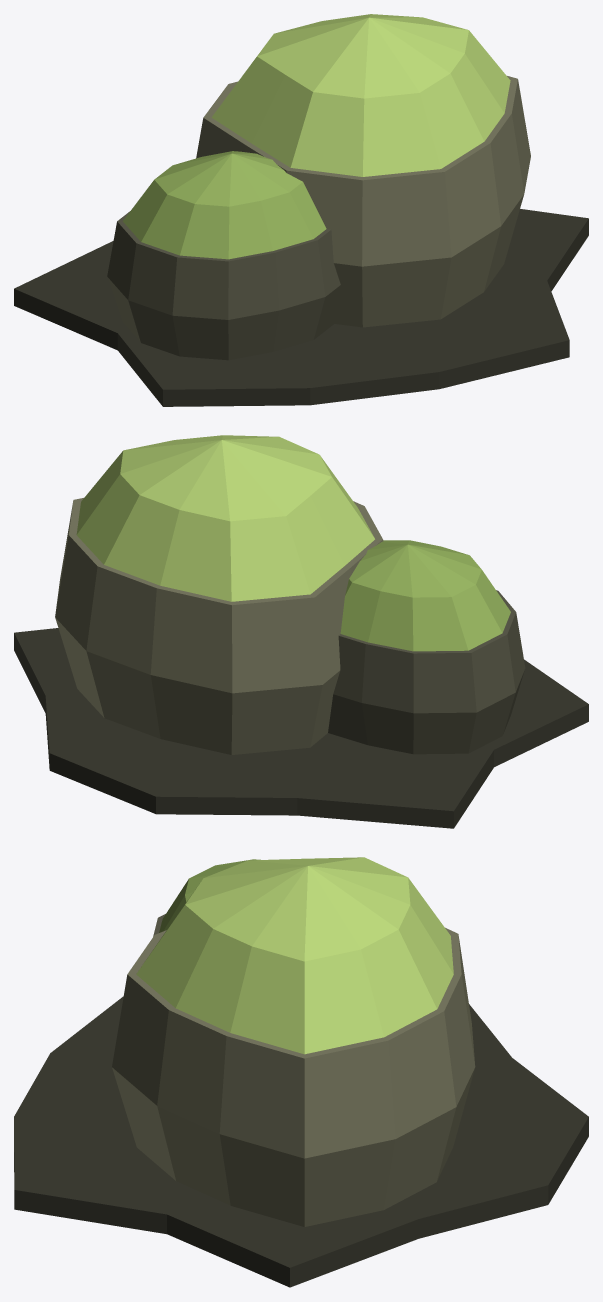
The model's file is eggsac_b.obj.
3 views of the same model, one above another, from view 1: azimuth 30°, elevation 25°; view 2: azimuth 150°, elevation 25°; view 3: azimuth 270°, elevation 25° (orthographic). The views are drawn at different scales.
Parts seen in each view (by area): view 1: eggsac_b; view 2: eggsac_b; view 3: eggsac_b.
Part boxes in pixels (x1=…): eggsac_b: x1=14, y1=14, x2=588, y2=406; eggsac_b: x1=14, y1=435, x2=588, y2=828; eggsac_b: x1=14, y1=857, x2=588, y2=1287.
Size of the model in its own units: 0.9186 by 0.46 by 0.7912.
